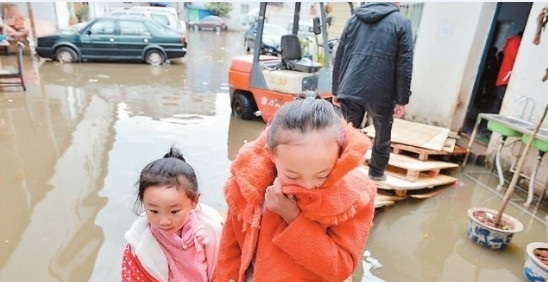face: (276, 148, 334, 197), (139, 189, 191, 231)
